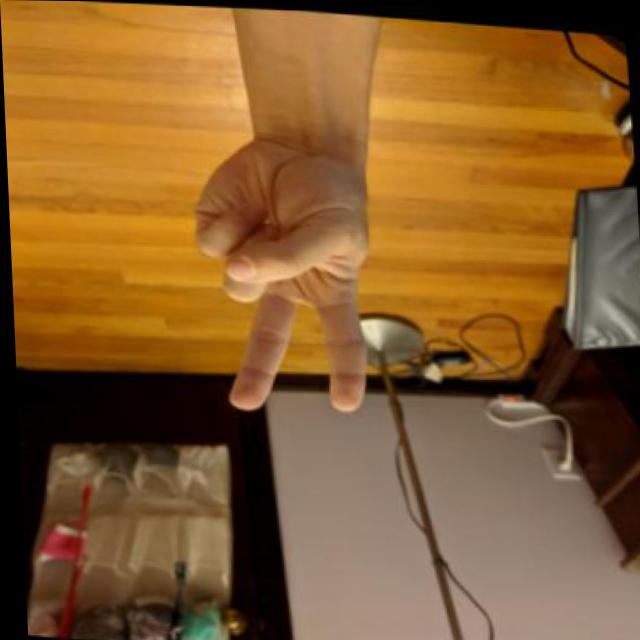V: (179, 123, 393, 422)
